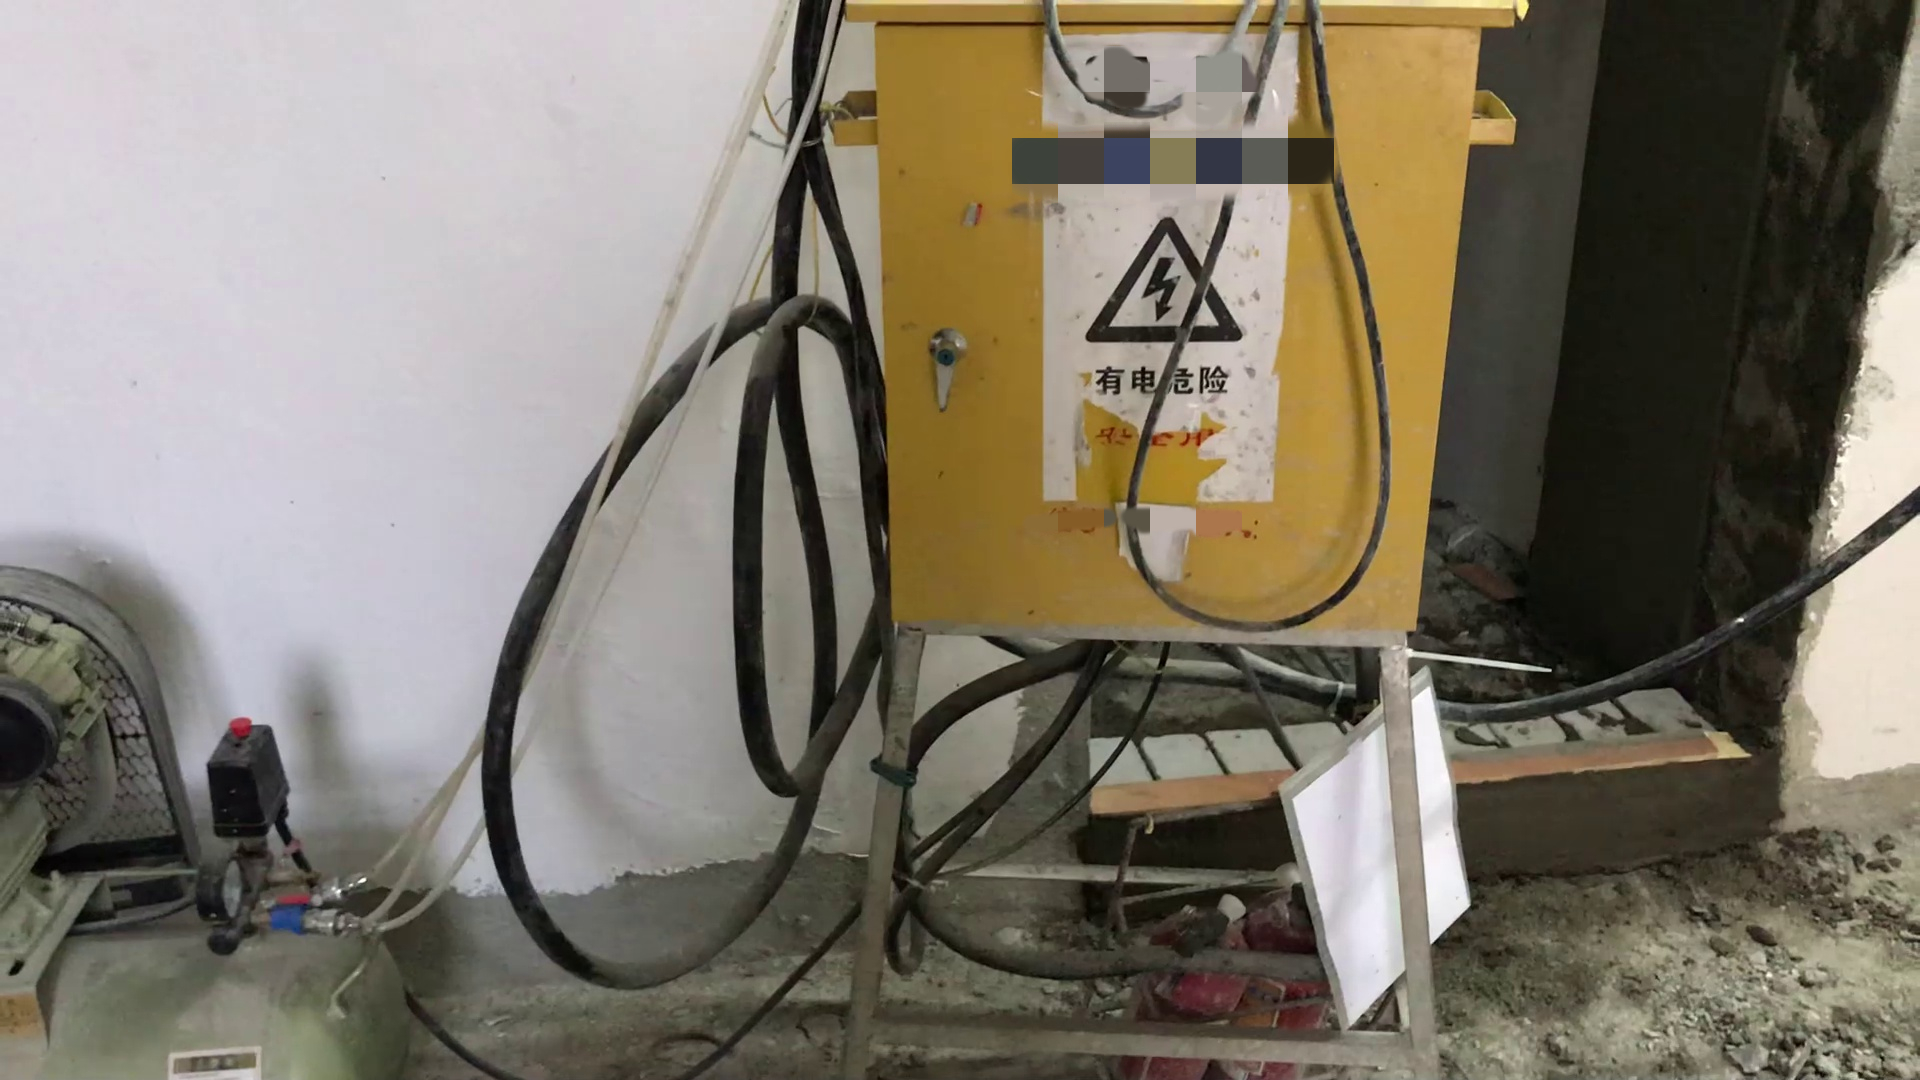ebox: (820, 4, 1542, 1080)
